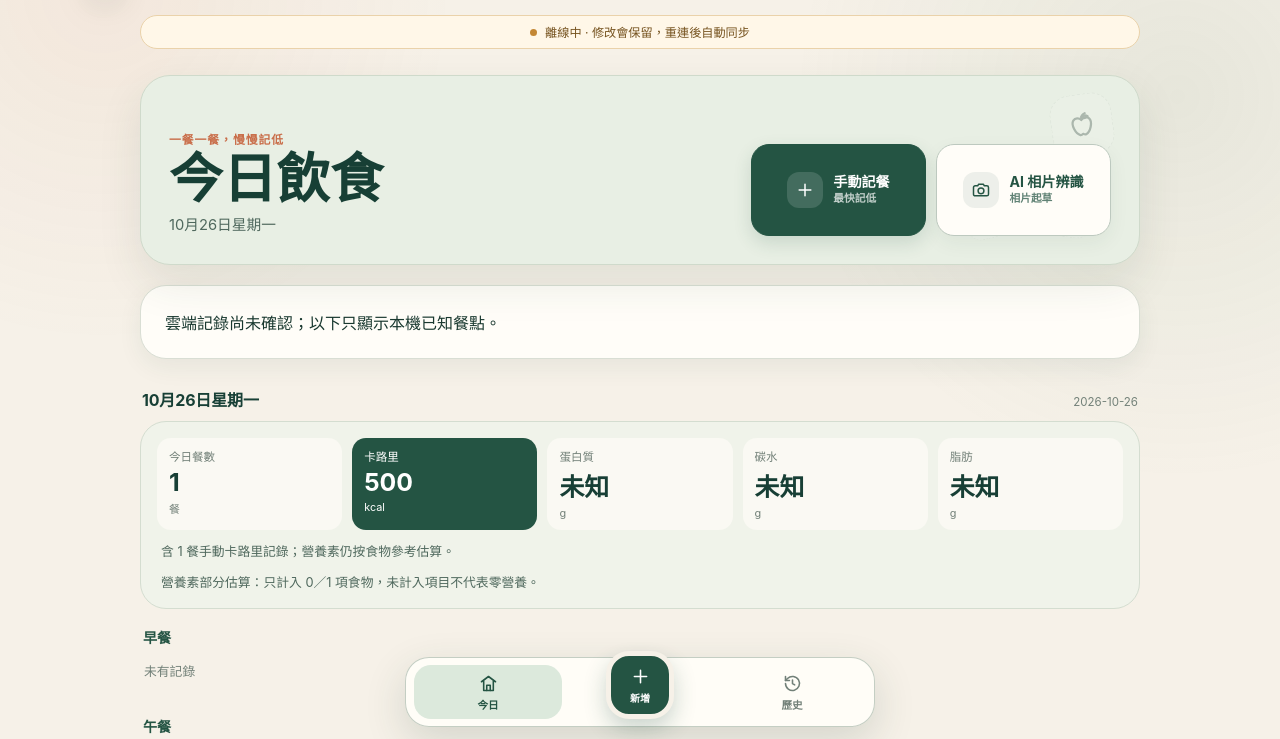
keeps the saved AI recognition separate from corrected History values
The image size is (1280, 739).
Click the button "歷史": x=792, y=692 [718, 665, 866, 719]
(page scrolled)
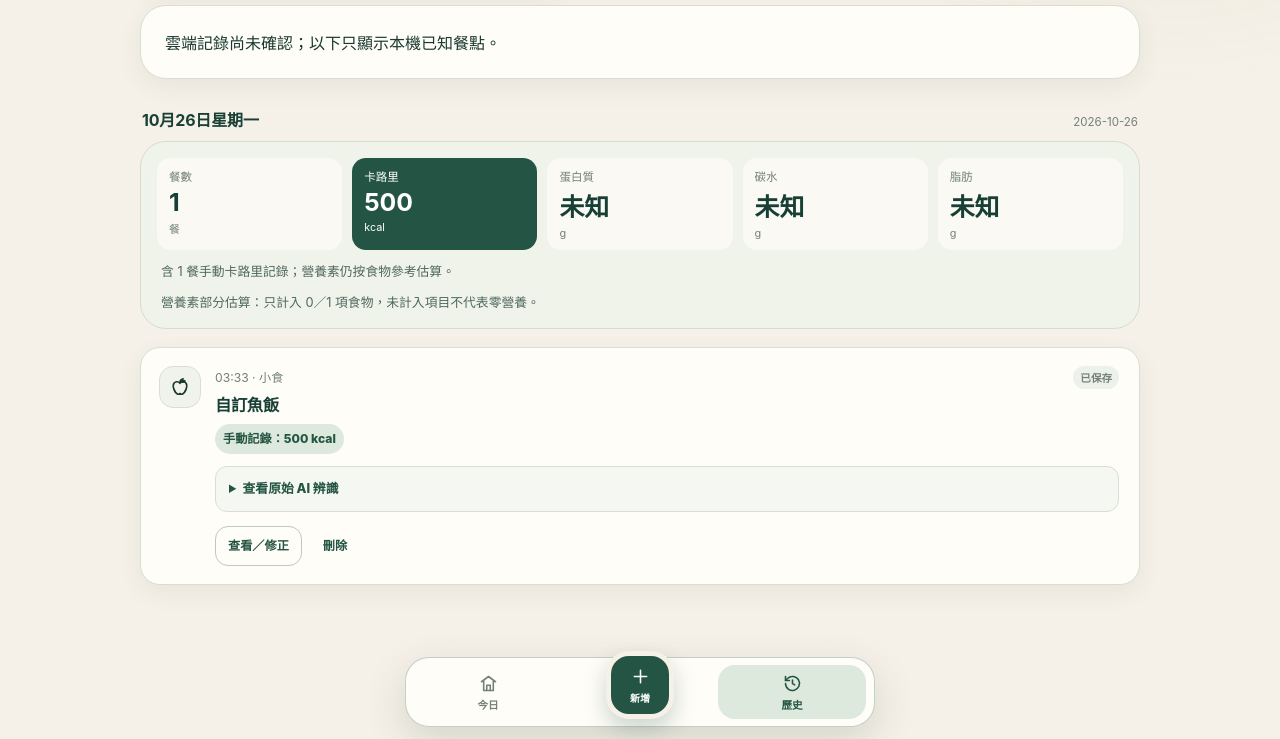
Check: the heading "自訂魚飯" is shown, box [215, 395, 279, 415]
Check: the text "查看原始 AI 辨識" is shown, box [215, 466, 1119, 512]
Click the heading "查看原始 AI 辨識": x=290, y=489 [242, 481, 338, 496]
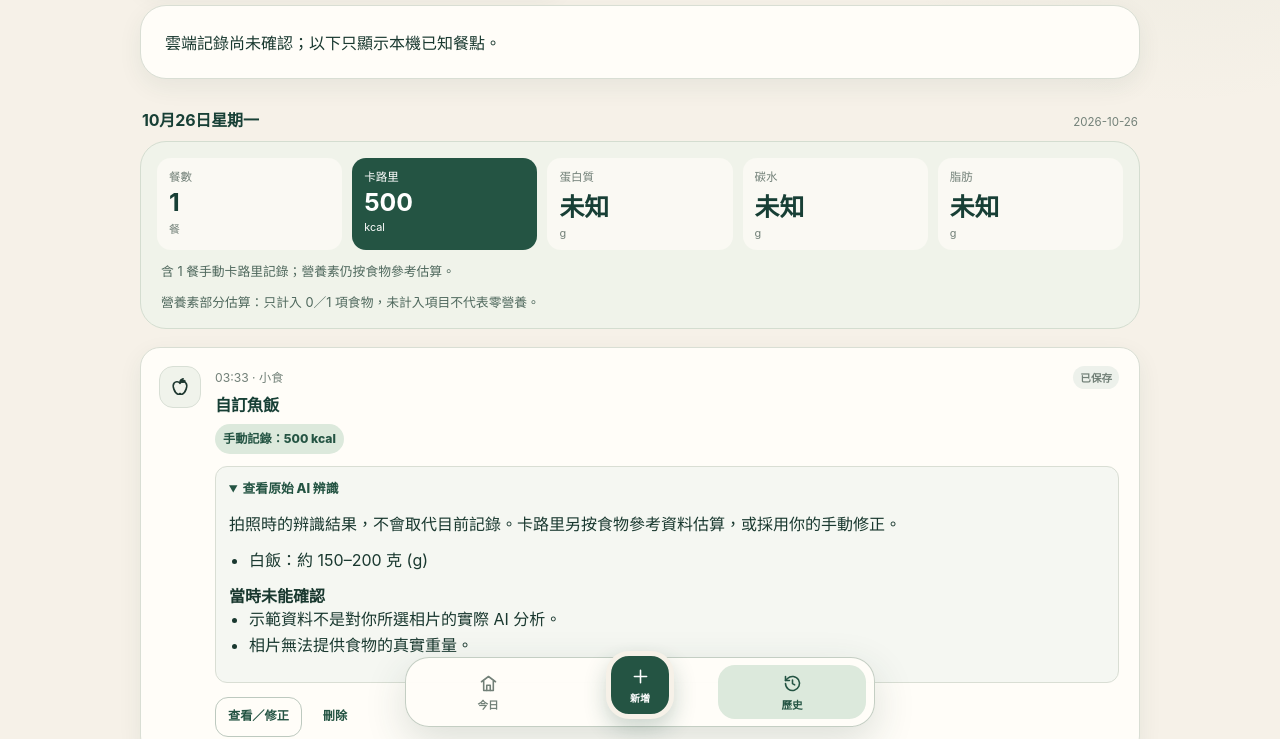
Check: the text "查看原始 AI 辨識" does not show "500 kcal", box [215, 466, 1119, 683]
Check: the text "查看原始 AI 辨識" shows "白飯：約 150–200 克 (g)", box [215, 466, 1119, 683]
Check: the text "查看原始 AI 辨識" shows "當時未能確認", box [229, 586, 325, 606]
